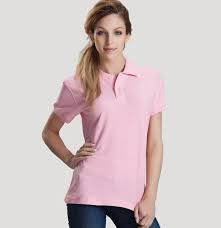S_polo shirt: (48, 51, 184, 215)
